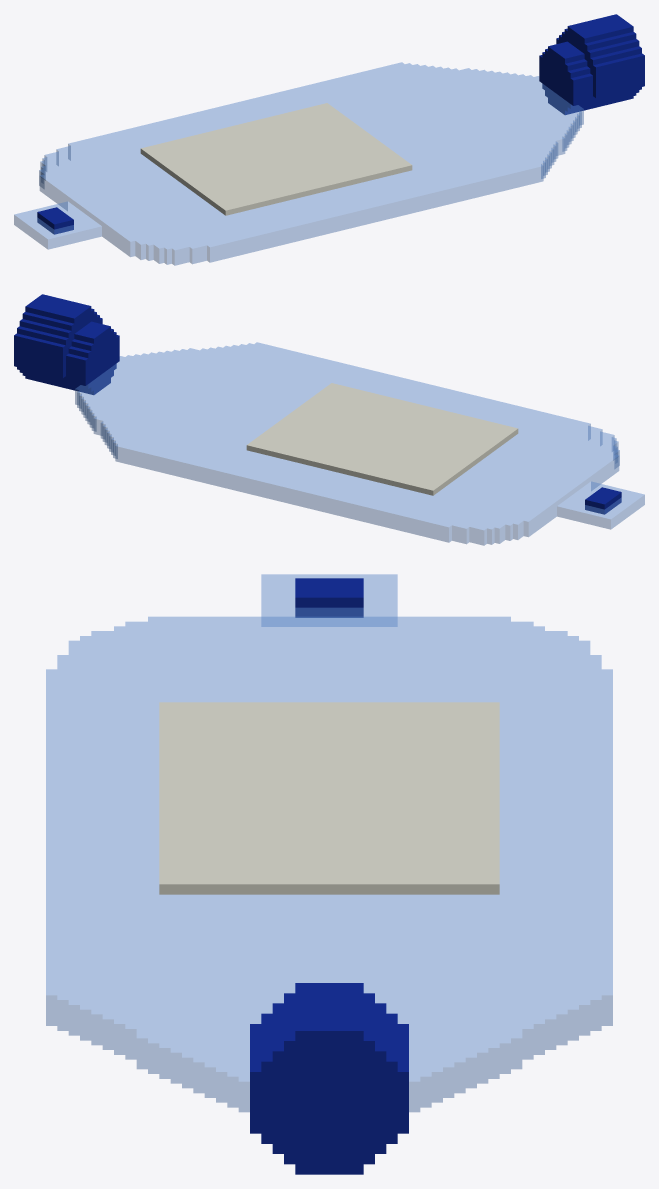
The model's file is bottle_folding.glb.
3 renders of one model, top to bottom at view 1: azimuth 30°, elevation 25°; view 2: azimuth 150°, elevation 25°; view 3: azimuth 270°, elevation 25°, orthographic. The views are drawn at different scales.
Visible parts, largest first — view 1: bottle_folding:compound; view 2: bottle_folding:compound; view 3: bottle_folding:compound.
Boxes of the visible parts, x1,y1,x2,y2 form: bottle_folding:compound: (14,14,644,265); bottle_folding:compound: (14,294,644,545); bottle_folding:compound: (46,574,612,1174).
Bounding box in the file's own units: 0.242 × 0.028 × 0.1.
